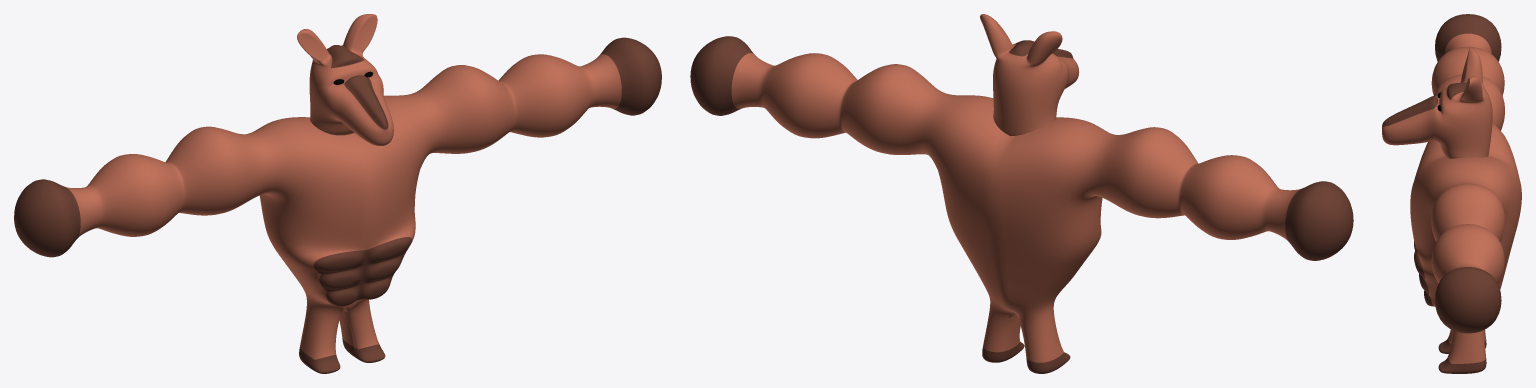
The model's file is BillyBroncoUnity.fbx.
3 renders of one model, left to right at view 1: azimuth 30°, elevation 25°; view 2: azimuth 150°, elevation 25°; view 3: azimuth 270°, elevation 25°, orthographic. The views are drawn at different scales.
Parts seen in each view (by area): view 1: Body, Head; view 2: Body, Head; view 3: Body, Head.
Part boxes in pixels (x1,y1,x2,y2): Body: (14, 37, 661, 373); Head: (297, 14, 393, 145); Body: (690, 36, 1353, 373); Head: (980, 14, 1079, 136); Body: (1410, 14, 1521, 373); Head: (1382, 47, 1492, 158).
Size of the model in its own units: 2230 by 1114 by 475.
